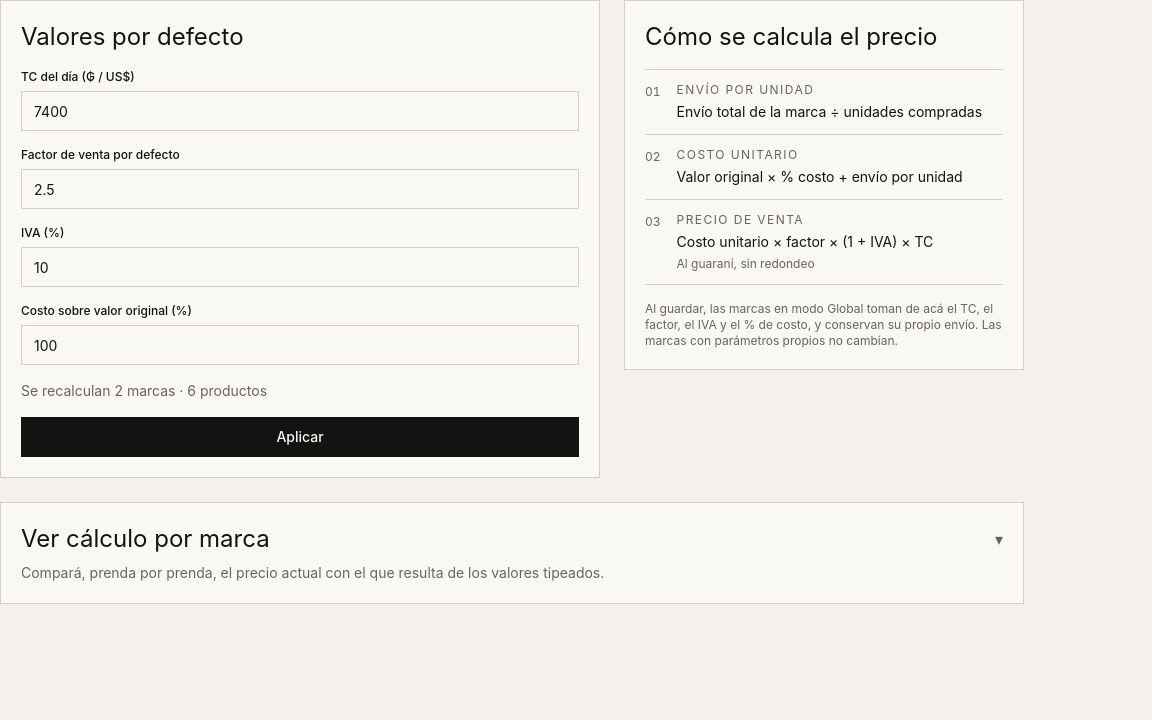
Test: SettingsForm › submits only the values
Replace the text in the number field labelled "IVA (%)" with "5" at (300, 267), box [21,247,579,287]
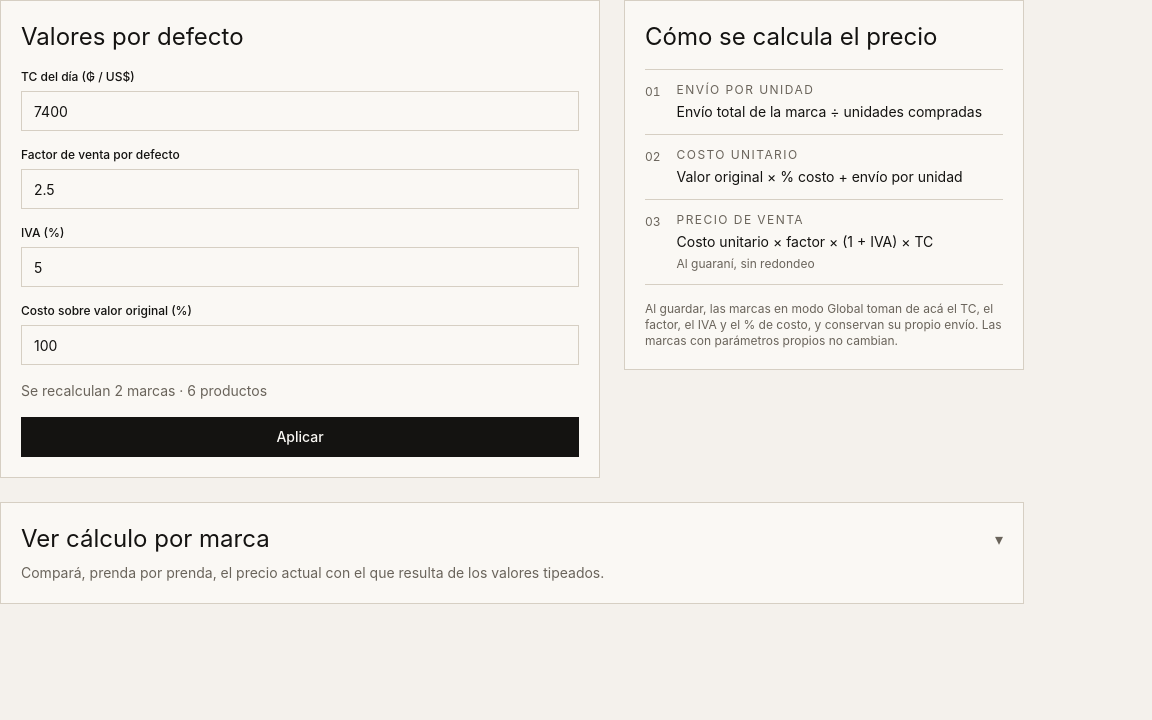
Submit the form named "Aplicar", box [0,0,600,478]
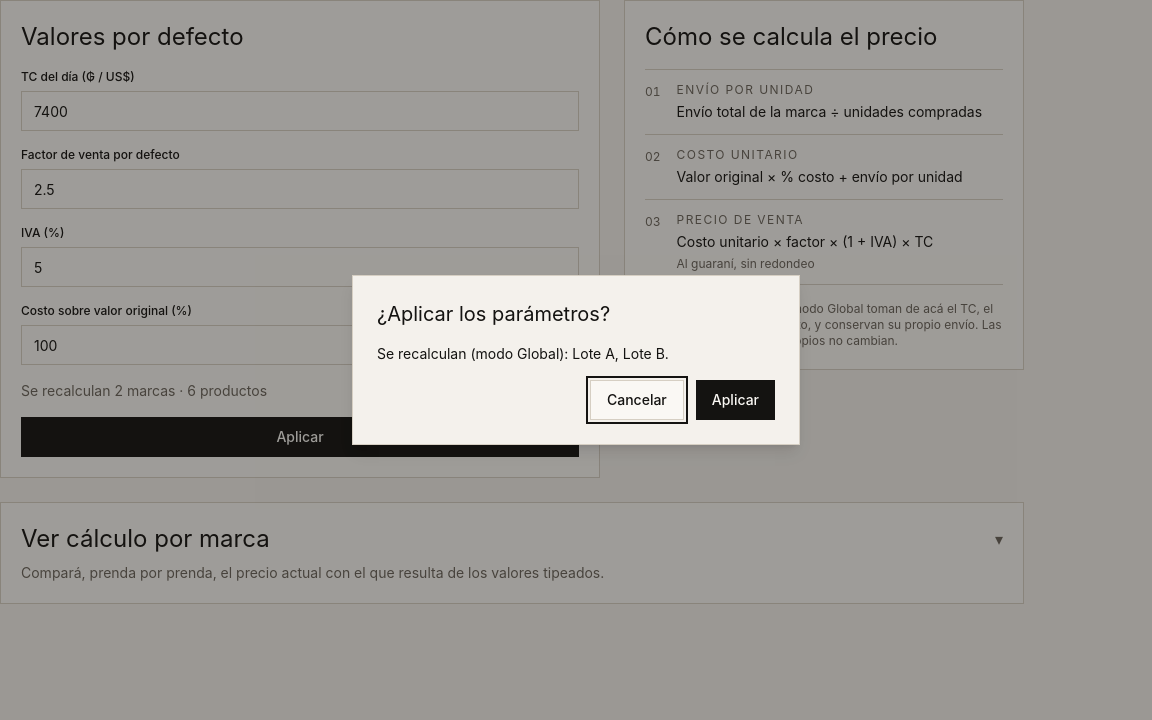
Click the button "Aplicar" at (735, 400), box [696,380,775,420]
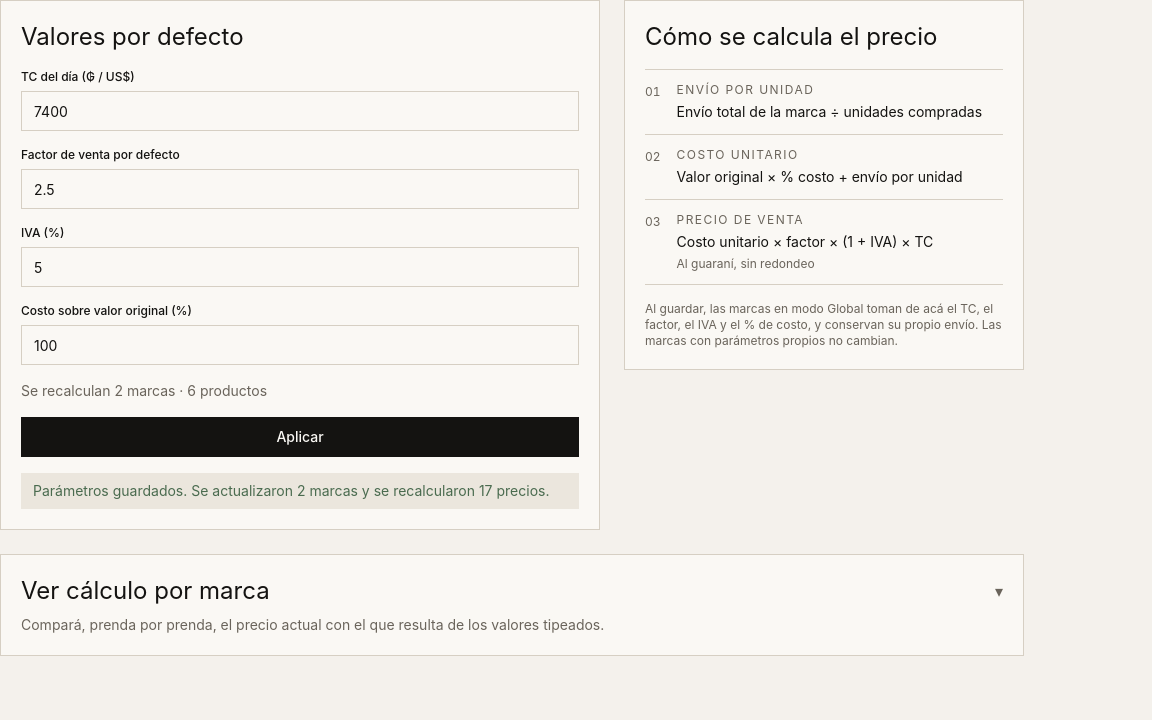
Expected: the message shows "Se actualizaron 2 marcas", [33,482,550,499]
